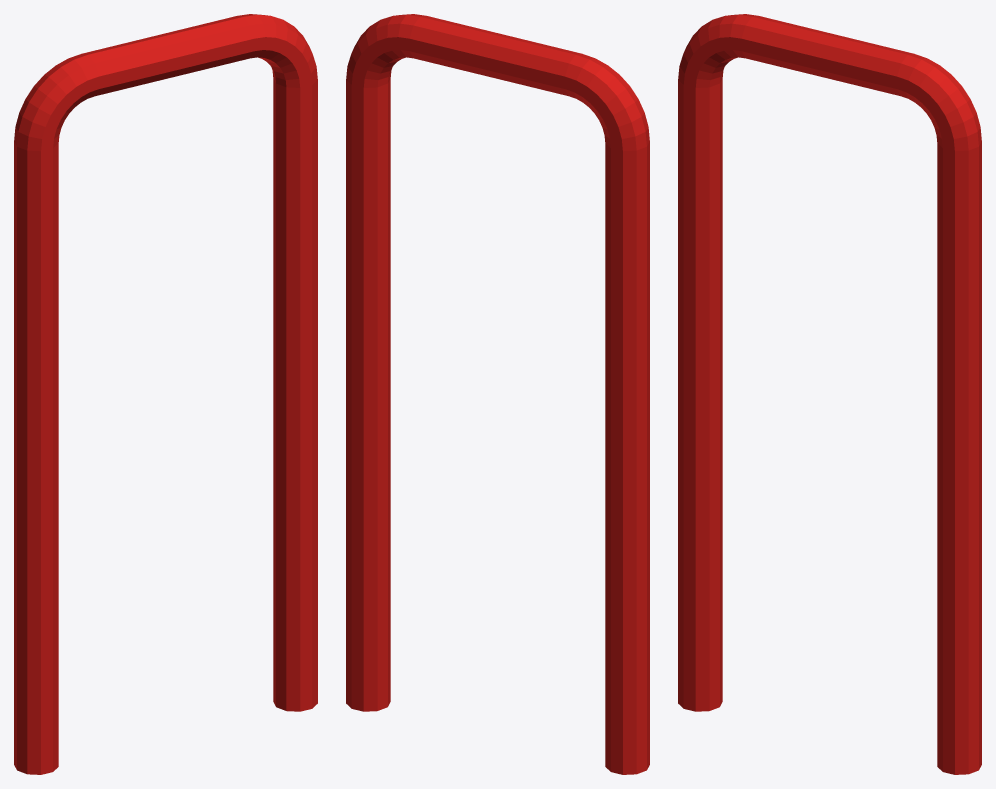
The model's file is TestWire 1.obj.
3 renders of one model, left to right at view 1: azimuth 30°, elevation 25°; view 2: azimuth 150°, elevation 25°; view 3: azimuth 330°, elevation 25°, orthographic.
Visible parts, largest first — view 1: TestWire; view 2: TestWire; view 3: TestWire.
Boxes of the visible parts, <box> form: TestWire: <box>14,14,317,774</box>; TestWire: <box>346,14,649,774</box>; TestWire: <box>678,14,981,774</box>.
Size of the model in its own units: 0.023 by 0.0515 by 0.00285.
